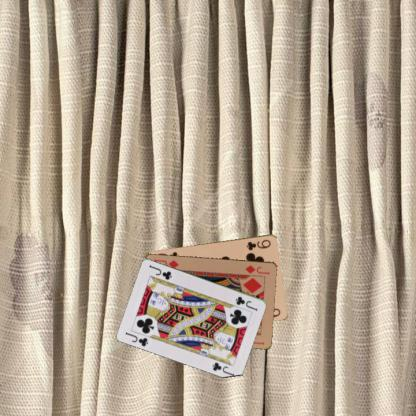9c: (244, 237, 272, 251)
Jc: (123, 329, 150, 348), (233, 294, 259, 312)
Jd: (243, 262, 271, 276)
